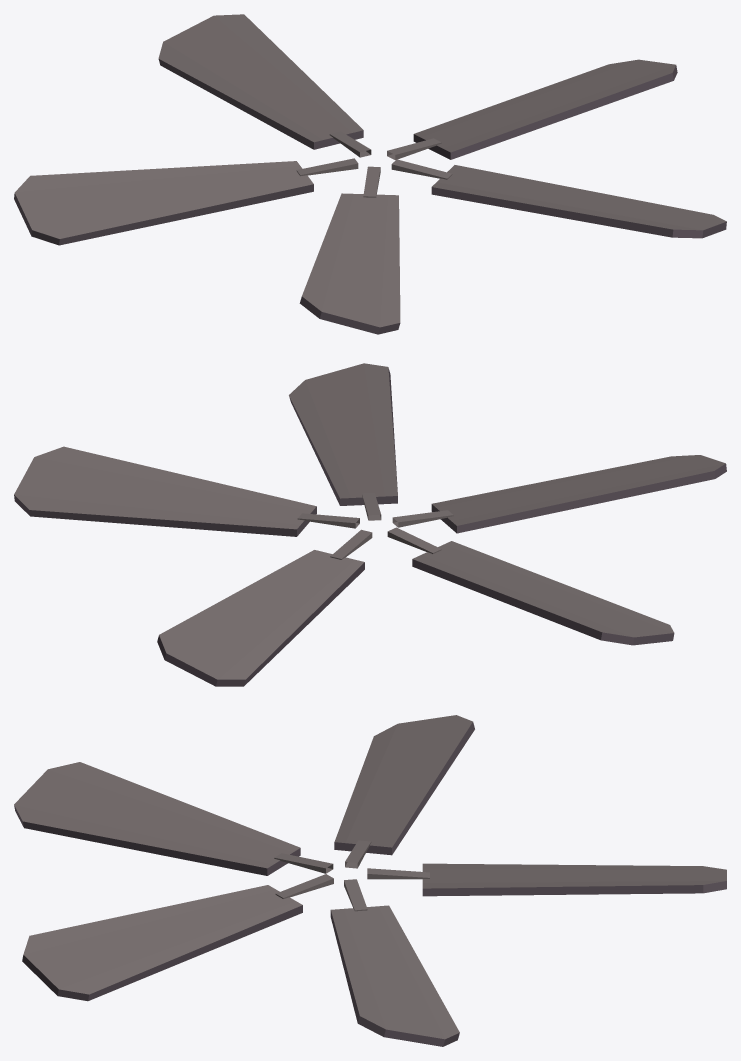
File: Blades.fbx
The picture shows the model from 3 angles, top to bottom: view 1: azimuth 30°, elevation 25°; view 2: azimuth 150°, elevation 25°; view 3: azimuth 270°, elevation 25°; orthographic projection. The views are drawn at different scales.
Parts seen in each view (by area): view 1: Blades; view 2: Blades; view 3: Blades.
Boxes of the visible parts, bbox=[...] form: Blades: bbox=[14, 14, 726, 334]; Blades: bbox=[14, 363, 726, 686]; Blades: bbox=[14, 715, 726, 1046].
Size of the model in its own units: 444 by 20.36 by 418.
